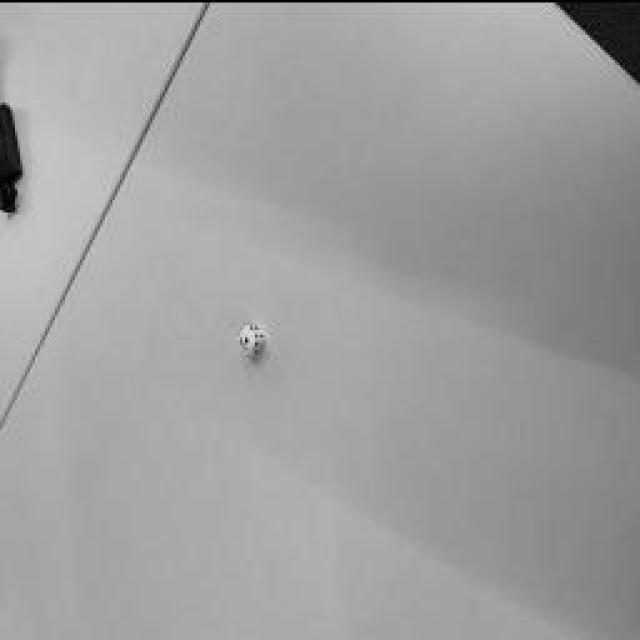dice_1: (238, 322, 258, 352)
